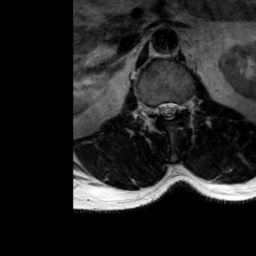CCS_normal: (164, 91, 171, 125)
LFS_normal: (178, 93, 186, 118)
LLS_normal: (171, 93, 178, 121)
RFS_normal: (150, 95, 157, 121)
RLS_normal: (157, 94, 164, 121)
